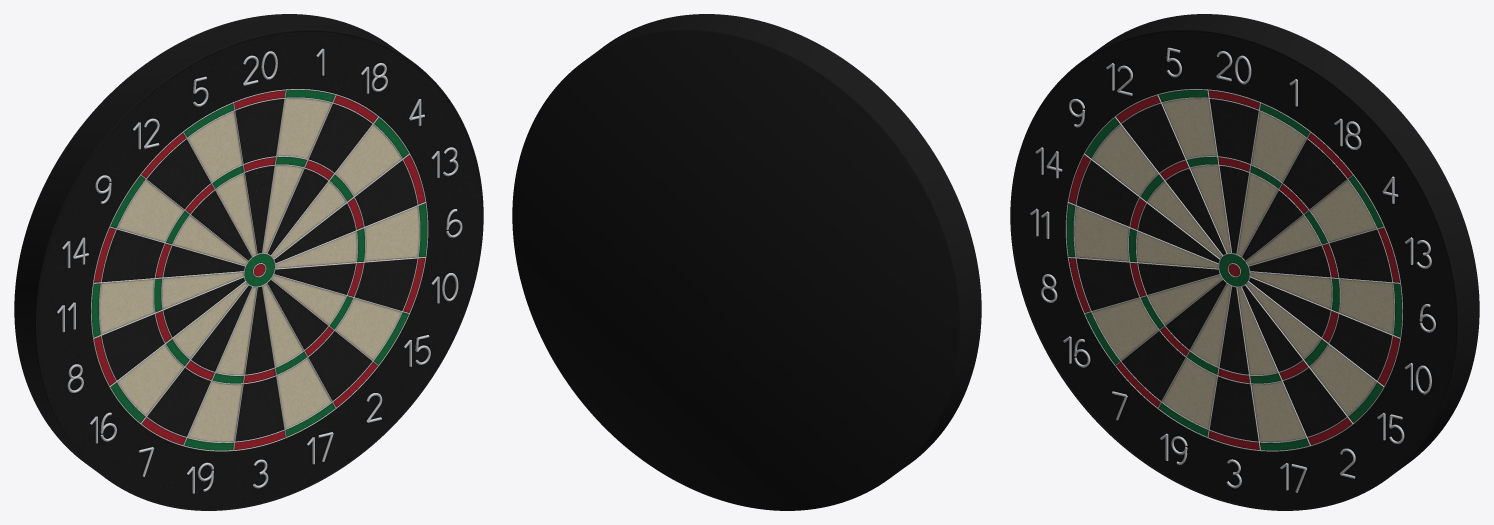
The model's file is board-1k.glb.
3 renders of one model, left to right at view 1: azimuth 30°, elevation 25°; view 2: azimuth 150°, elevation 25°; view 3: azimuth 330°, elevation 25°, orthographic.
Visible parts, largest first — view 1: face, rim, spider, numbers; view 2: rim; view 3: face, rim, spider, numbers.
Boxes of the visible parts, left/top/right/bottom form: face: left=37, top=31, right=481, bottom=509; rim: left=14, top=14, right=483, bottom=510; spider: left=91, top=89, right=428, bottom=451; numbers: left=57, top=48, right=462, bottom=493; rim: left=512, top=14, right=981, bottom=510; face: left=1012, top=31, right=1456, bottom=509; rim: left=1010, top=14, right=1479, bottom=510; spider: left=1065, top=89, right=1402, bottom=451; numbers: left=1030, top=47, right=1435, bottom=492.
Size of the model in its own units: 0.4529 by 0.4529 by 0.0401.
3 materials, 1 textured.
